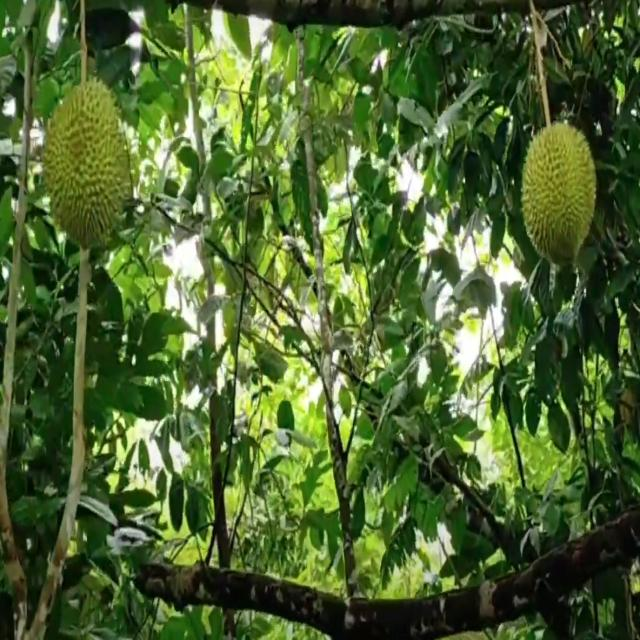immature: (41, 73, 132, 254), (522, 115, 599, 262)
